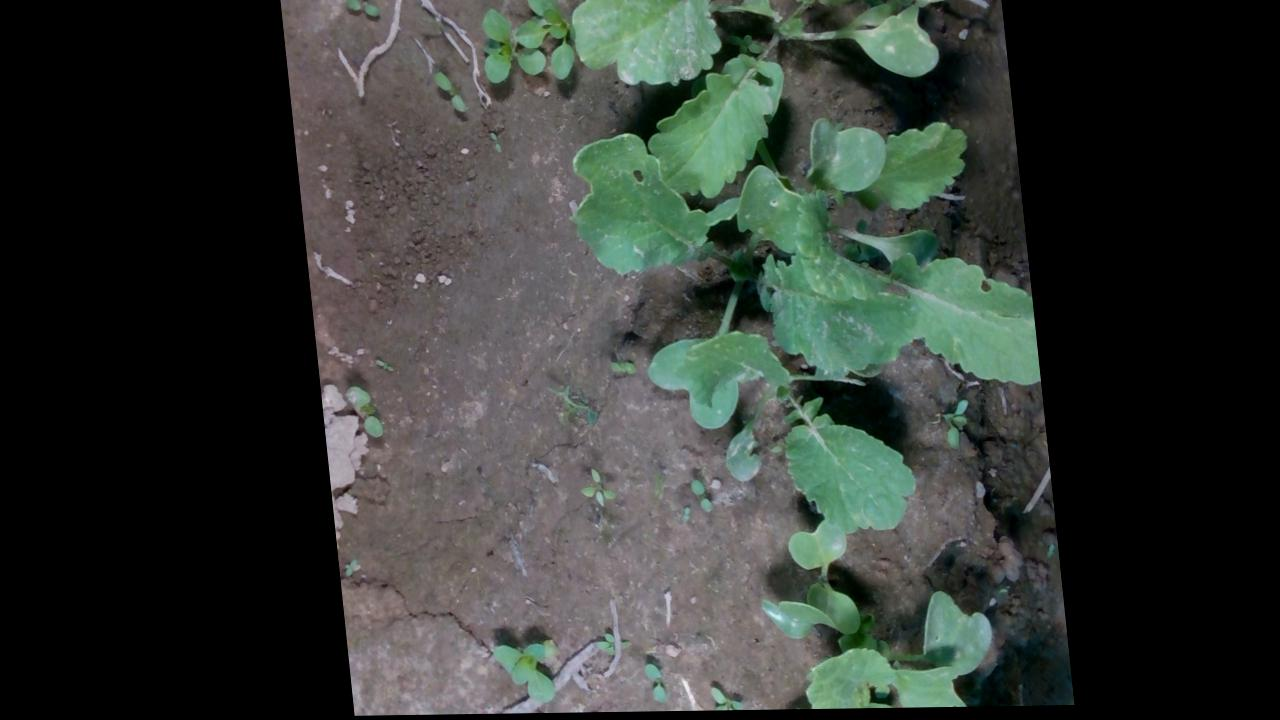weed: (562, 476, 605, 510), (339, 0, 388, 27), (626, 658, 649, 708), (691, 684, 730, 712), (433, 82, 464, 117), (679, 479, 702, 514), (596, 363, 630, 384), (480, 134, 500, 151)
